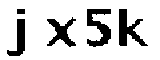5: (83, 3, 112, 51)
j: (4, 6, 30, 59)
k: (117, 6, 151, 49)
x: (43, 15, 78, 52)
